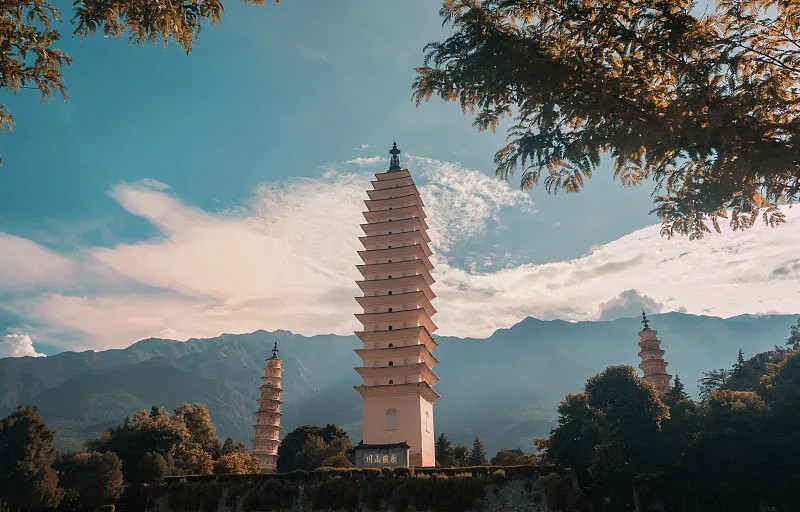ThreePagoda: (353, 141, 441, 468)
